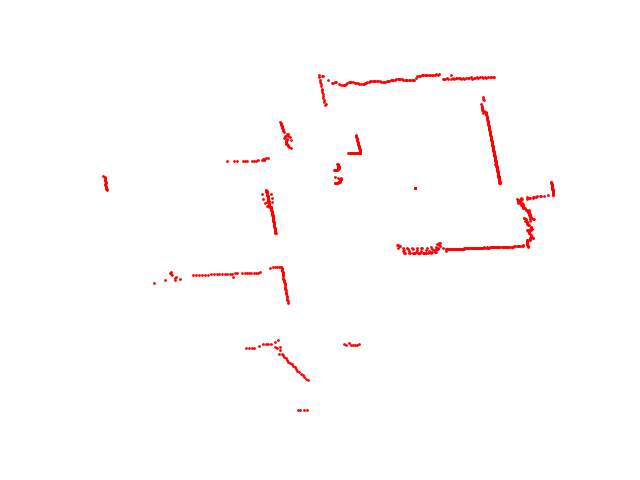person: (331, 162, 347, 188)
